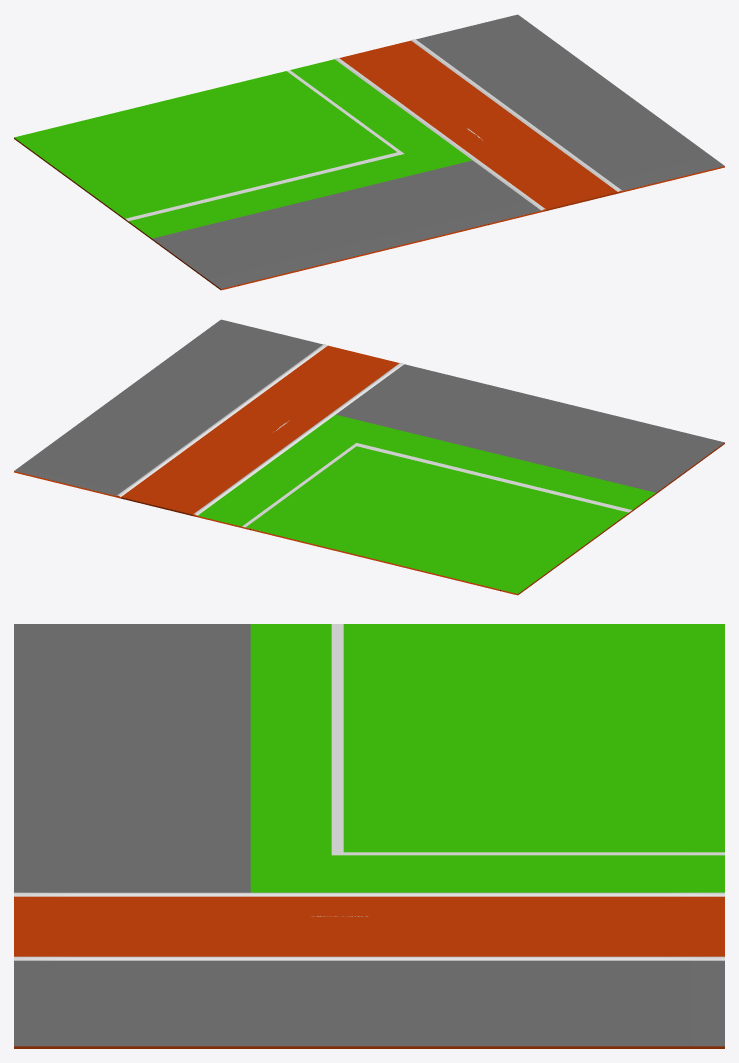
Rendered from StartTile.fbx.
The picture shows the model from 3 angles, top to bottom: view 1: azimuth 30°, elevation 25°; view 2: azimuth 150°, elevation 25°; view 3: azimuth 270°, elevation 25°; orthographic projection. The views are drawn at different scales.
Parts seen in each view (by area): view 1: Cube; view 2: Cube; view 3: Cube.
Part boxes in pixels (<box>): Cube: <box>14,14,724,290</box>; Cube: <box>14,319,724,595</box>; Cube: <box>14,624,724,1048</box>.
Bounding box in the file's own units: 14053 × 59.49 × 10000.
